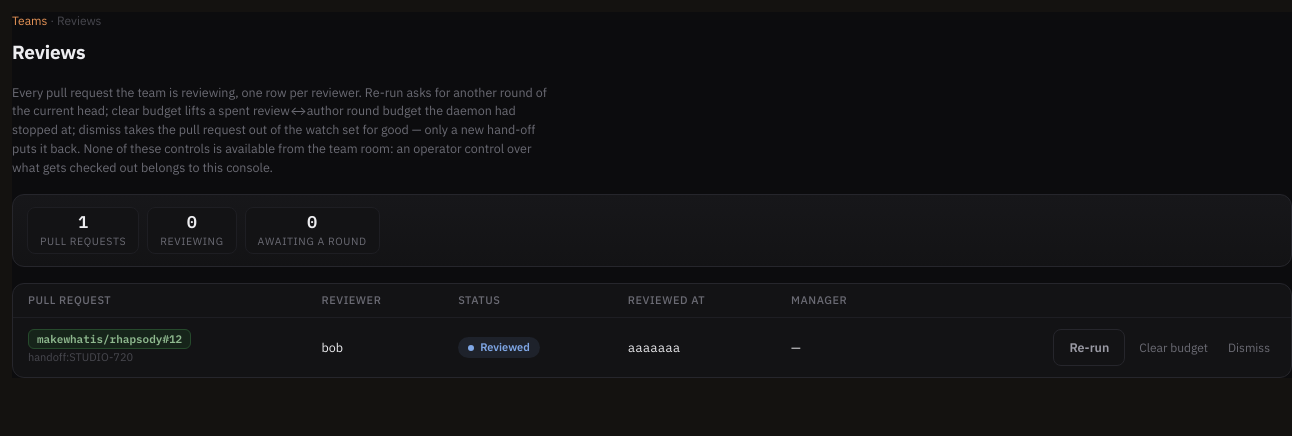
Test: the Reviews surface › does not dismiss on the first click, and says what cannot be undone
The image size is (1292, 436).
Step 1. Click the button with aria-label "Dismiss makewhatis/rhapsody#12 from the watch set" → {"x": 1249, "y": 348}, box [1222,331,1276,365]
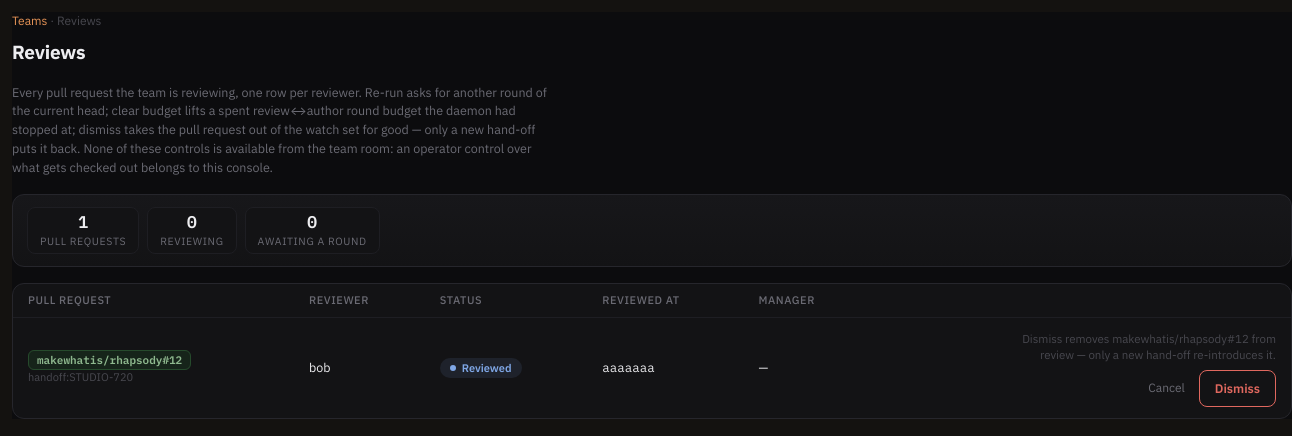
Expected: the element named "Dismiss makewhatis/rhapsody#12?" shows "only a new hand-off", [1040,331,1276,362]
Expected: the element named "Dismiss makewhatis/rhapsody#12?" shows "re-introduces", [1040,331,1276,362]
